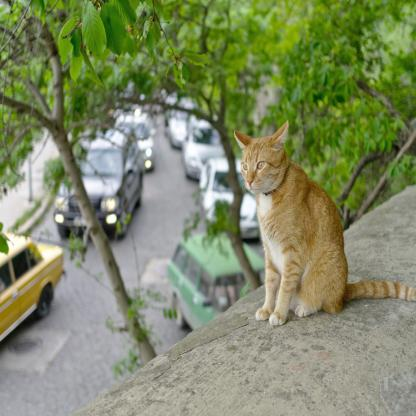Car: (50, 91, 266, 334), (0, 238, 61, 334)
